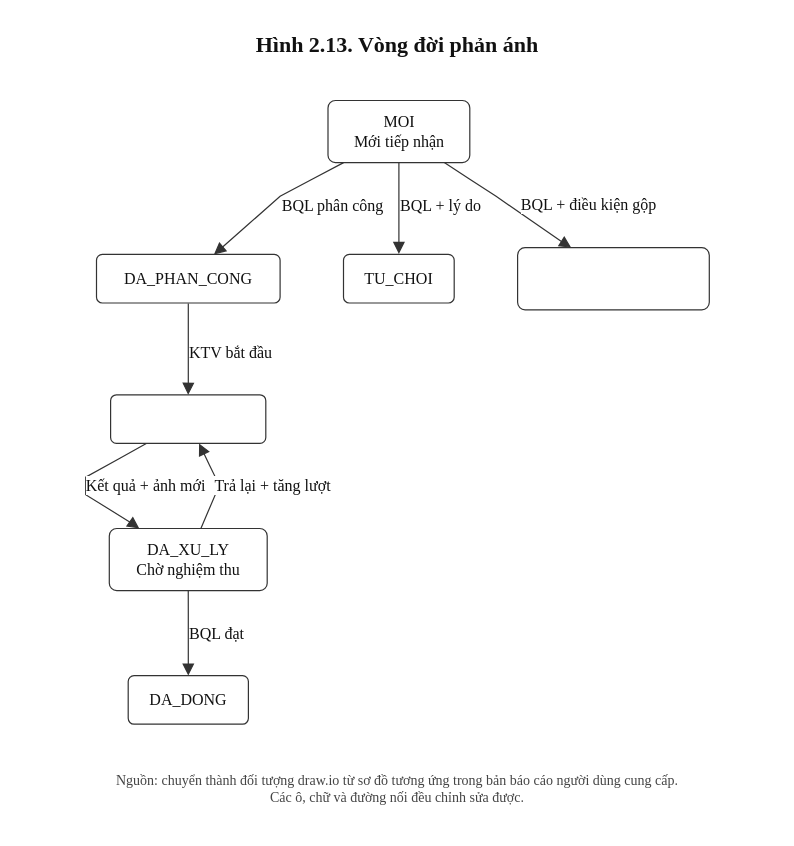
Some shapes in this 794 by 846 pixel diagram are drawn without their labels. The centre of each missing label's shape, as x and y in pixels:
DANG_XU_LY: point 188,419
TRUNG Tham chiếu bản gốc: point 612,278
